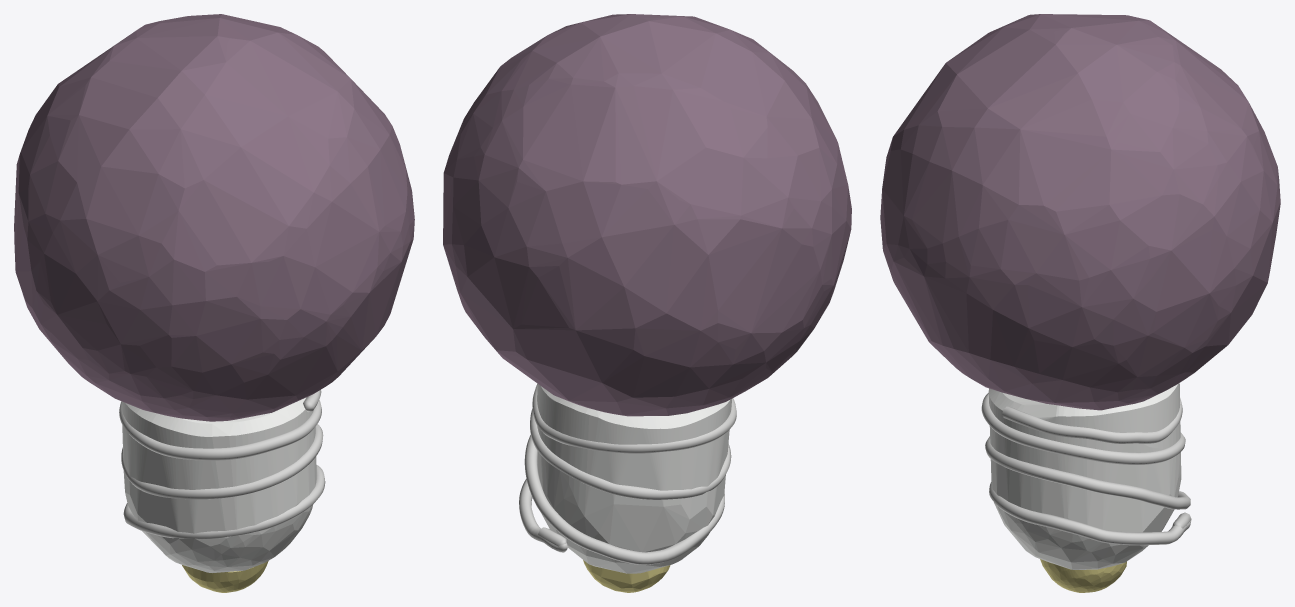
The model's file is bulb.glb.
The picture shows the model from 3 angles, left to right: view 1: azimuth 30°, elevation 25°; view 2: azimuth 150°, elevation 25°; view 3: azimuth 270°, elevation 25°; orthographic projection. The views are drawn at different scales.
Visible parts, largest first — view 1: Object_15.001, Object_17.001, Object_19.001; view 2: Object_15.001, Object_17.001, Object_19.001; view 3: Object_15.001, Object_17.001, Object_19.001.
Part boxes in pixels (x1,y1,x2,y2): Object_15.001: [14, 14, 414, 421]; Object_17.001: [121, 397, 316, 592]; Object_19.001: [119, 390, 325, 539]; Object_15.001: [443, 14, 851, 416]; Object_17.001: [537, 384, 731, 592]; Object_19.001: [519, 384, 736, 564]; Object_15.001: [880, 14, 1280, 410]; Object_17.001: [988, 383, 1181, 592]; Object_19.001: [981, 393, 1191, 545].
Bounding box in the file's own units: 0.2193 × 0.3324 × 0.2177.
Materials: 3 (1 with a texture image).
